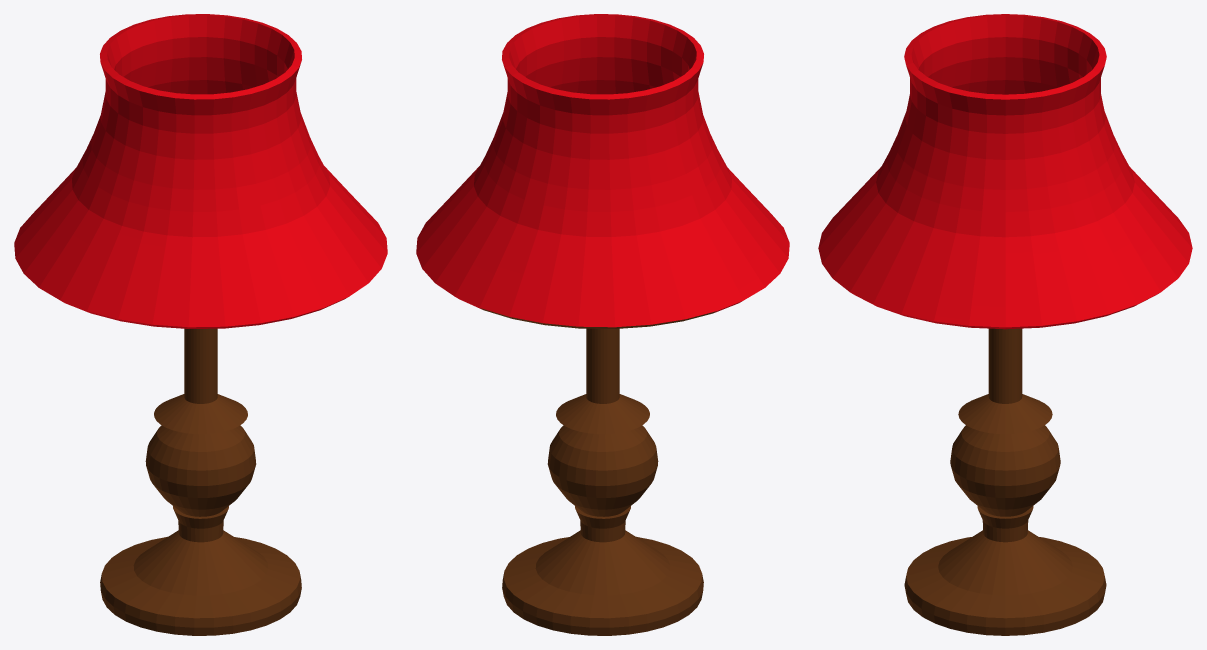
File: abajur3.fbx
3 renders of one model, left to right at view 1: azimuth 30°, elevation 25°; view 2: azimuth 150°, elevation 25°; view 3: azimuth 270°, elevation 25°, orthographic.
Parts seen in each view (by area): view 1: Cylinder; view 2: Cylinder; view 3: Cylinder.
Boxes of the visible parts, x1,y1,x2,y2 form: Cylinder: (14,14,387,635); Cylinder: (416,14,789,635); Cylinder: (818,14,1192,635).
Bounding box in the file's own units: 48.78 × 77.51 × 48.78.
